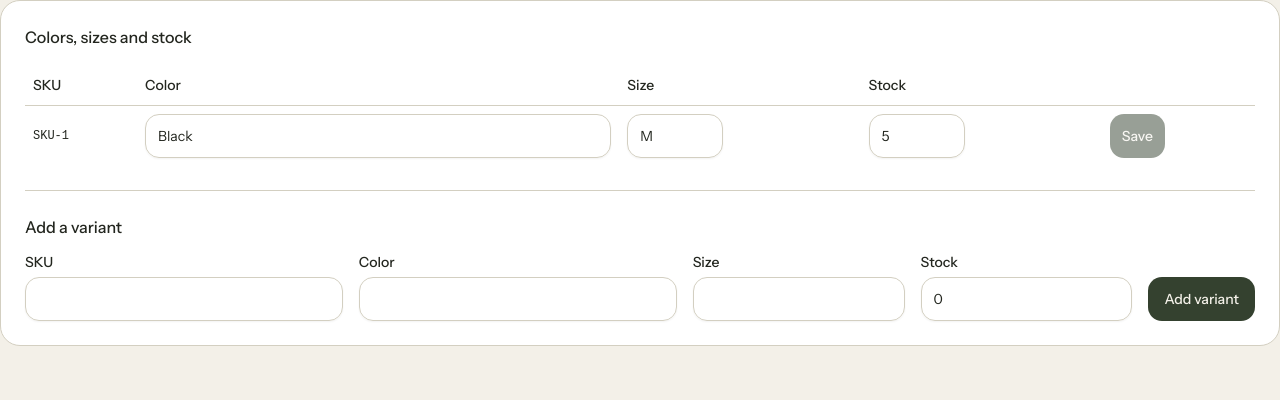
VariantsSection: the variants of a product › changing a variant › does not send a stock of a fraction, and says what is wrong
Replace the text in the field named "Stock of SKU-1" with "1.5": (916, 136) [868,114,964,158]
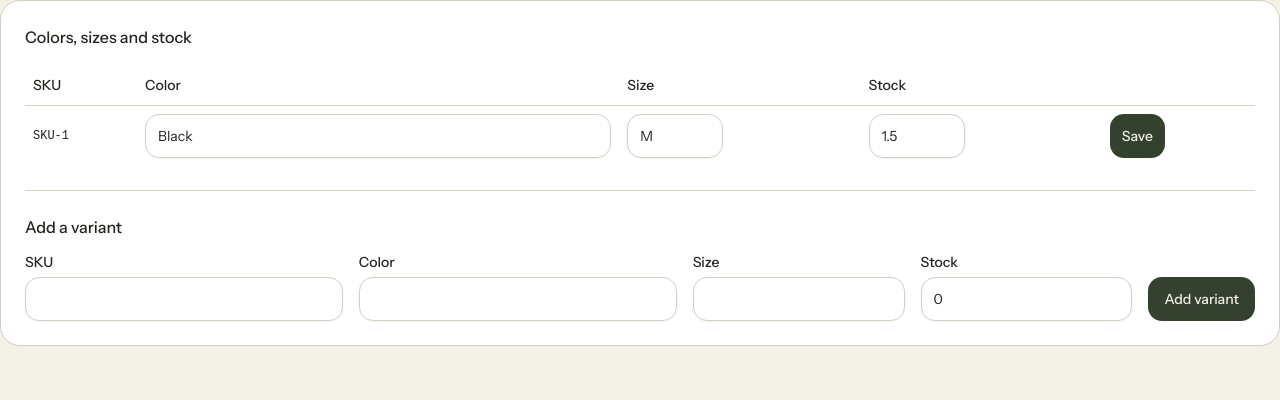
Click the button "Save": (1137, 136) [1110,114,1165,158]
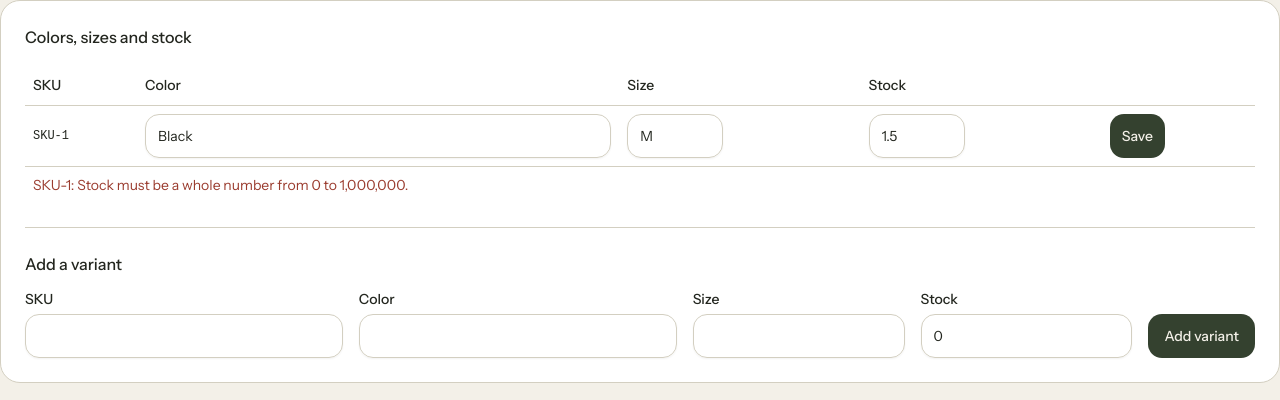
expect the message shows "Stock must be a whole number from 0 to 1,000,000.": met, box [77,176,408,194]
